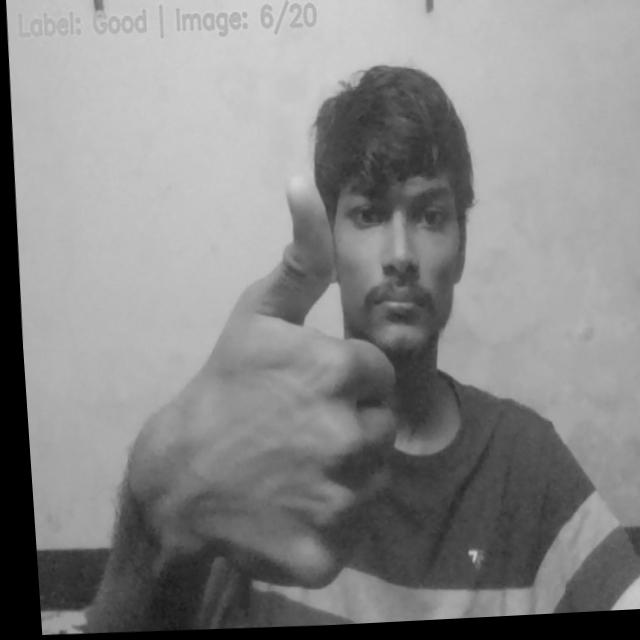Good: (129, 168, 407, 589)
